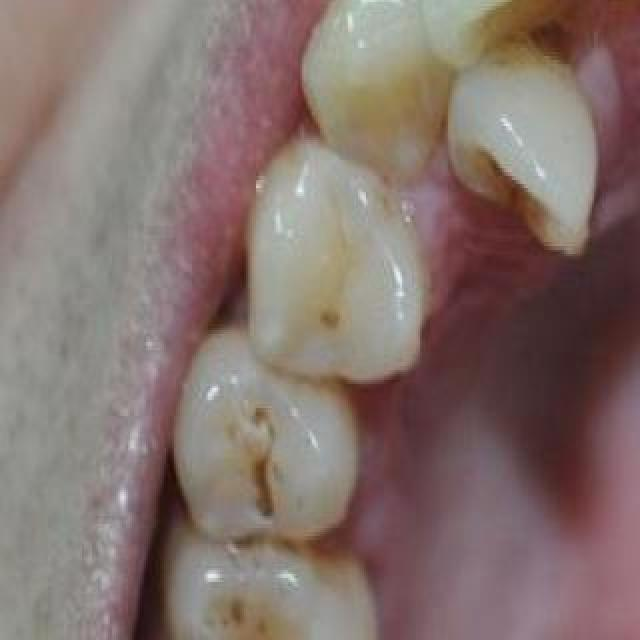cavities: (185, 398, 319, 532)
maligned: (444, 34, 640, 294), (402, 0, 610, 80)
